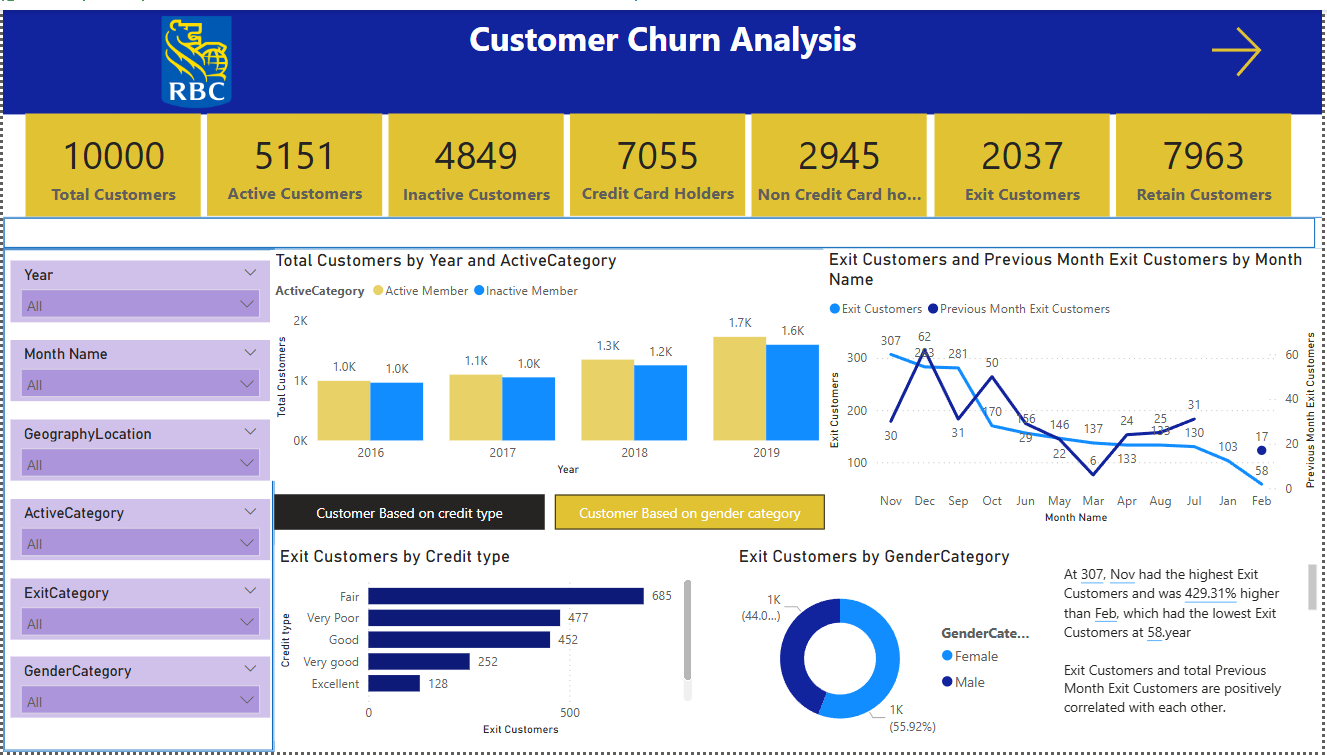

Layout of this report page (visuals, bound fields, positions):
{"tool":"powerbi","page":{"name":"Home Page","canvas":[1280,720],"ordinal":0},"visuals":[{"type":"card","fields":{"Values":["Calculations.Total Customers"]},"box":[21.5,101,170,100],"z":0,"group":"g1"},{"type":"textbox","box":[0,0,1280.5,101],"z":0},{"type":"image","box":[61.3,0,253.4,101],"z":1000},{"type":"card","fields":{"Values":["Calculations 2.Active Customers"]},"box":[197.4,101,170,99.4],"z":1000,"group":"g1"},{"type":"card","fields":{"Values":["Calculations.Inactive Customers"]},"box":[374.1,101,170,100],"z":2000,"group":"g1"},{"type":"group","id":"g1","title":"kpi's","box":[21.5,101,1228.5,100],"z":2000},{"type":"shape","box":[0,200.4,1280.5,31.5],"z":3000},{"type":"shape","box":[0,231.9,263.4,488.7],"z":4000},{"type":"card","fields":{"Values":["Calculations.Credit Card Holders"]},"box":[550,101,170,99.4],"z":5000,"group":"g1"},{"type":"slicer","fields":{"Values":["DateMaster.Year"]},"box":[6.6,243.5,251.8,60],"z":5000},{"type":"card","fields":{"Values":["Calculations.Non Credit Card holders"]},"box":[726.7,101,170,100],"z":6000,"group":"g1"},{"type":"slicer","fields":{"Values":["DateMaster.Month Name"]},"box":[6.6,320.7,251.8,59.6],"z":6000},{"type":"card","fields":{"Values":["Calculations.Exit Customers"]},"box":[903.3,101,170,100],"z":7000,"group":"g1"},{"type":"slicer","fields":{"Values":["Geography.GeographyLocation"]},"box":[6.6,397.4,251.8,59.6],"z":7000},{"type":"card","fields":{"Values":["Calculations.Retain Customers"]},"box":[1080,101,170,100],"z":8000,"group":"g1"},{"type":"slicer","fields":{"Values":["ActiveCustomer.ActiveCategory"]},"box":[6.6,474.2,251.8,59.6],"z":8000},{"type":"slicer","fields":{"Values":["ExitCustomer.ExitCategory"]},"box":[6.6,551,251.8,59.6],"z":9000},{"type":"slicer","fields":{"Values":["Gender.GenderCategory"]},"box":[6.6,627.8,251.8,59.6],"z":10000},{"type":"clusteredColumnChart","fields":{"Category":["DateMaster.Year","DateMaster.Month"],"Y":["Calculations.Total Customers"],"Series":["ActiveCustomer.ActiveCategory"]},"box":[258.7,232.6,539.1,223.9],"z":11000},{"type":"lineChart","fields":{"Category":["DateMaster.Month Name"],"Y":["Calculations.Exit Customers"],"Y2":["Calculations.Previous Month Exit Customers"]},"box":[796.8,231.9,483.7,271.7],"z":12000},{"type":"donutChart","fields":{"Category":["Gender.GenderCategory"],"Y":["Calculations.Exit Customers"]},"box":[709.4,520.3,301.6,200],"z":13000},{"type":"barChart","fields":{"Y":["Calculations.Exit Customers"],"Category":["Bank_Churn.Credit type"]},"box":[263,519.6,410.9,189.1],"z":14000},{"type":"textbox","box":[1025,532.8,254.7,176.6],"z":16000},{"type":"bookmarkNavigator","box":[263,469.6,534.8,34.8],"z":17000},{"type":"actionButton","box":[1165.2,10.9,100,60.9],"z":18000}]}

Visuals, with their boxes in screenshot pixels (x1, y1, x2, y2), scaled from the page's 1280x720 canvas onto the 1327x755 screenshot:
card - Calculations.Total Customers: BBox(22, 106, 199, 211)
textbox: BBox(0, 0, 1326, 106)
image: BBox(64, 0, 326, 106)
card - Calculations 2.Active Customers: BBox(205, 106, 381, 210)
card - Calculations.Inactive Customers: BBox(388, 106, 564, 211)
"kpi's" group: BBox(22, 106, 1296, 211)
shape: BBox(0, 210, 1326, 243)
shape: BBox(0, 243, 273, 754)
card - Calculations.Credit Card Holders: BBox(570, 106, 746, 210)
slicer - DateMaster.Year: BBox(7, 255, 268, 318)
card - Calculations.Non Credit Card holders: BBox(753, 106, 930, 211)
slicer - DateMaster.Month Name: BBox(7, 336, 268, 399)
card - Calculations.Exit Customers: BBox(936, 106, 1113, 211)
slicer - Geography.GeographyLocation: BBox(7, 417, 268, 479)
card - Calculations.Retain Customers: BBox(1120, 106, 1296, 211)
slicer - ActiveCustomer.ActiveCategory: BBox(7, 497, 268, 560)
slicer - ExitCustomer.ExitCategory: BBox(7, 578, 268, 640)
slicer - Gender.GenderCategory: BBox(7, 658, 268, 721)
clusteredColumnChart - DateMaster.Year x DateMaster.Month: BBox(268, 244, 827, 479)
lineChart - DateMaster.Month Name x Calculations.Exit Customers: BBox(826, 243, 1326, 528)
donutChart - Gender.GenderCategory x Calculations.Exit Customers: BBox(735, 546, 1048, 754)
barChart - Calculations.Exit Customers x Bank_Churn.Credit type: BBox(273, 545, 699, 743)
textbox: BBox(1063, 559, 1326, 744)
bookmarkNavigator: BBox(273, 492, 827, 529)
actionButton: BBox(1208, 11, 1312, 75)
